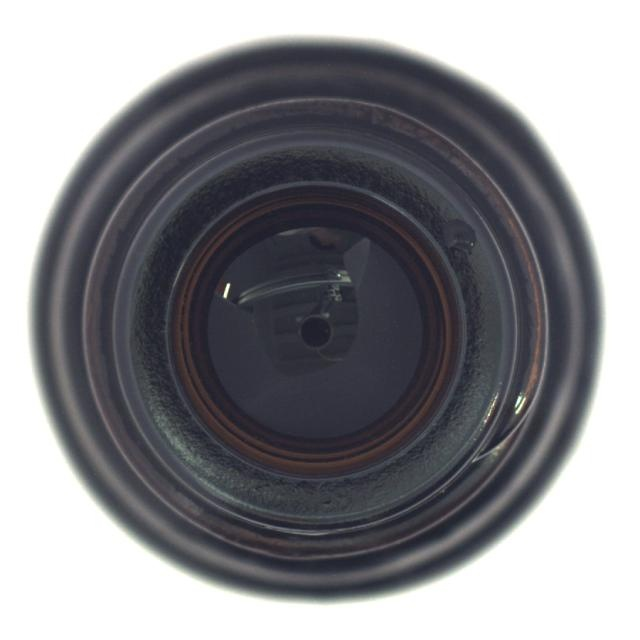bad-contamination: (27, 34, 606, 603)
